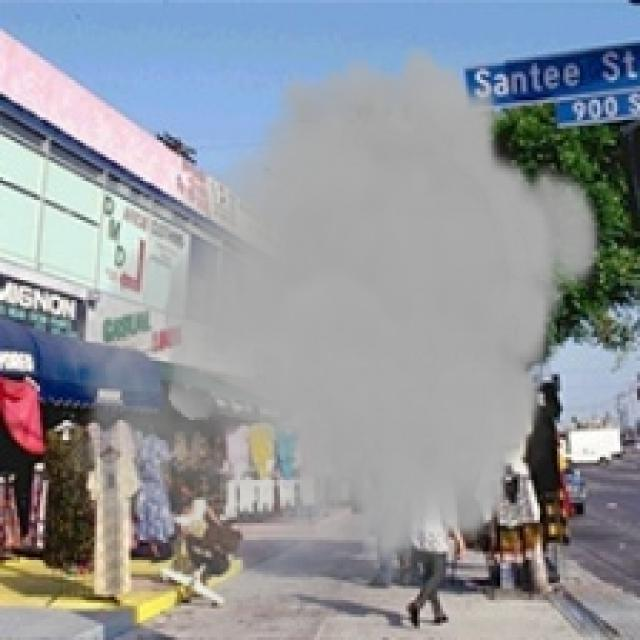Smoke: (43, 43, 606, 606)
